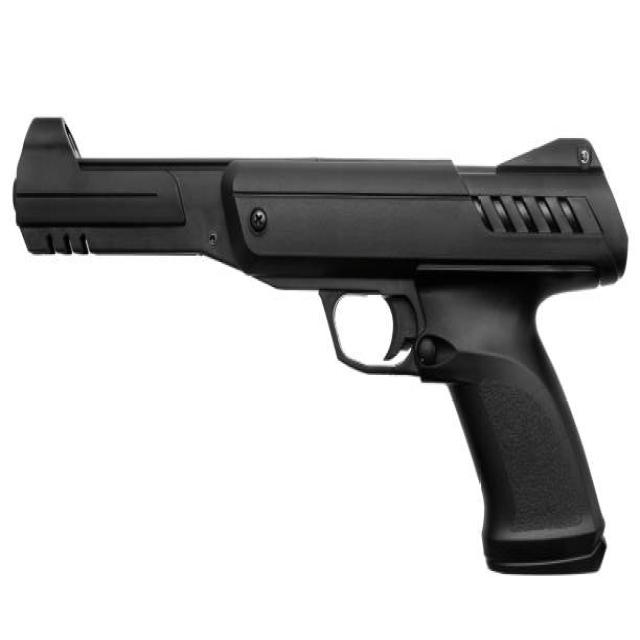pistol: (12, 102, 630, 590)
